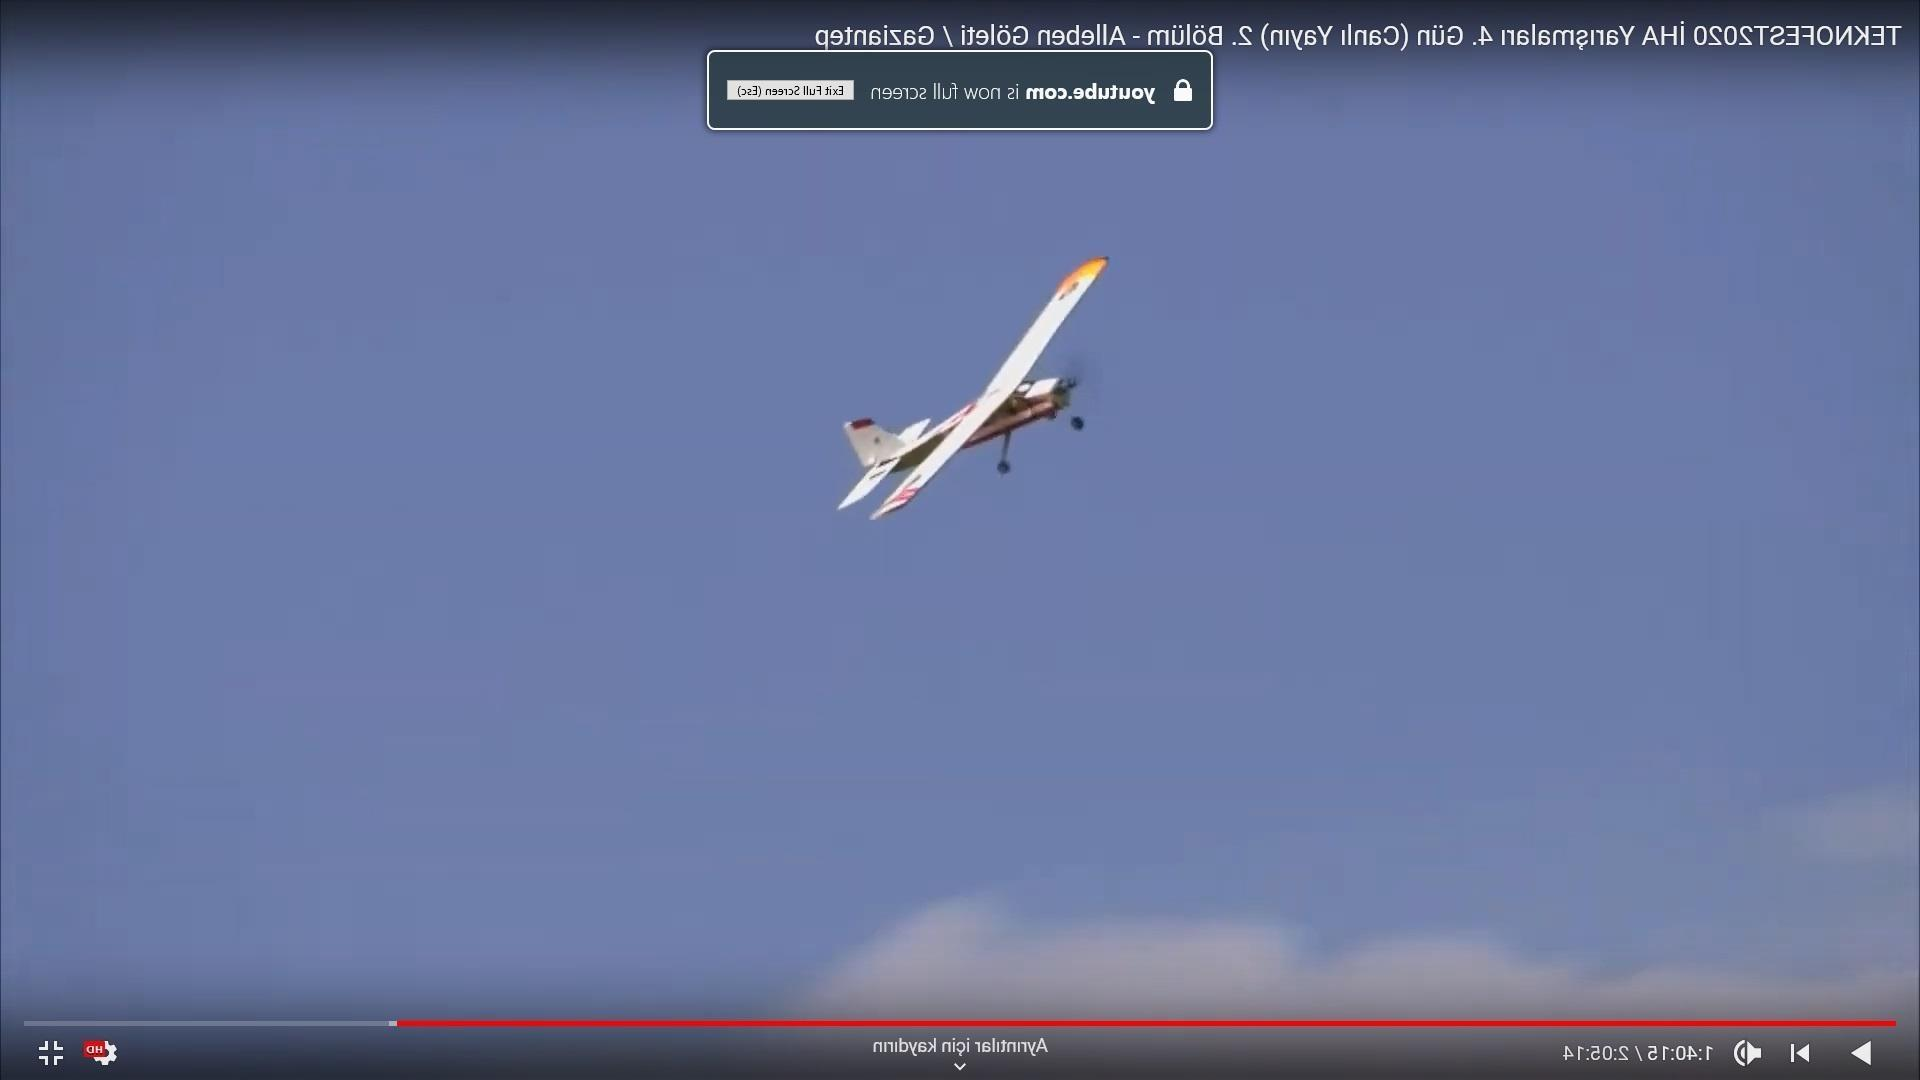Airplane: (825, 244, 1113, 538)
